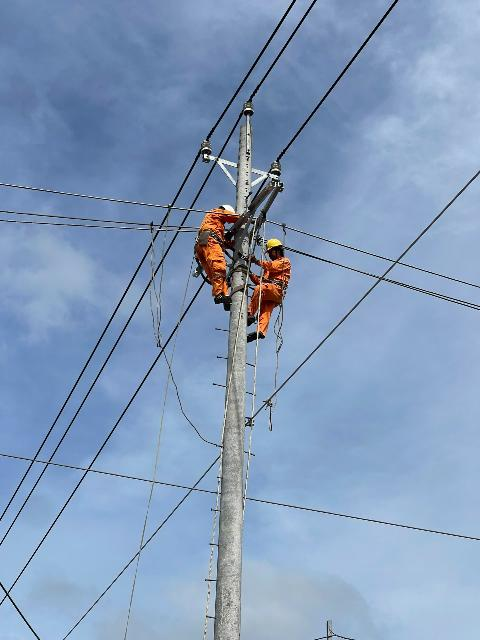gloves: (245, 252, 261, 265), (250, 217, 263, 229)
harness: (259, 274, 291, 293), (198, 229, 229, 246)
helmet: (218, 204, 237, 222), (263, 236, 283, 253)
shoes: (242, 327, 265, 343), (212, 291, 232, 305), (223, 292, 233, 313), (245, 309, 255, 327)
